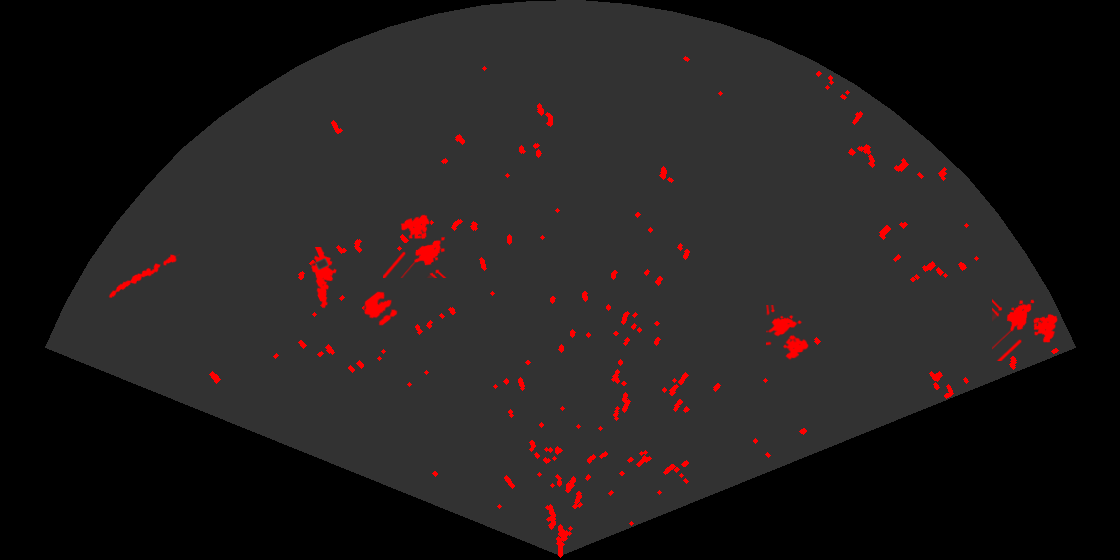ball: (363, 290, 399, 327)
cage: (992, 297, 1059, 361), (383, 213, 448, 278), (766, 305, 810, 362)
chain: (107, 252, 180, 300)
frogman: (310, 247, 338, 310)
